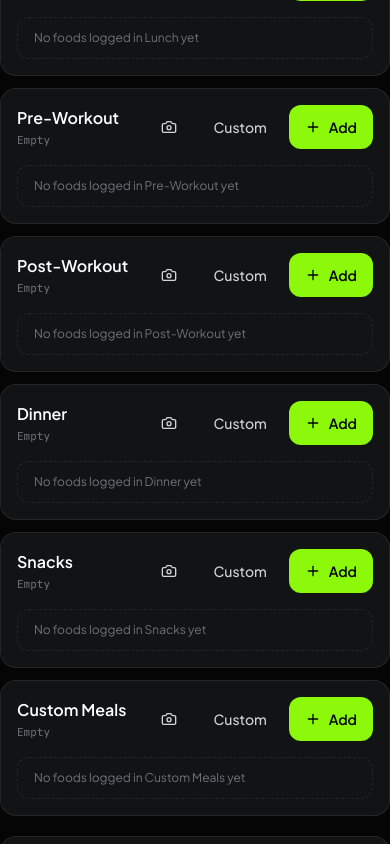
Test: Add-food and custom-food dialogs › custom food: Save is disabled until a name is entered, and every field is labelled
(page scrolled)
Click the button with aria-label "Add custom food to Dinner" at (240, 423), box [197, 401, 283, 445]
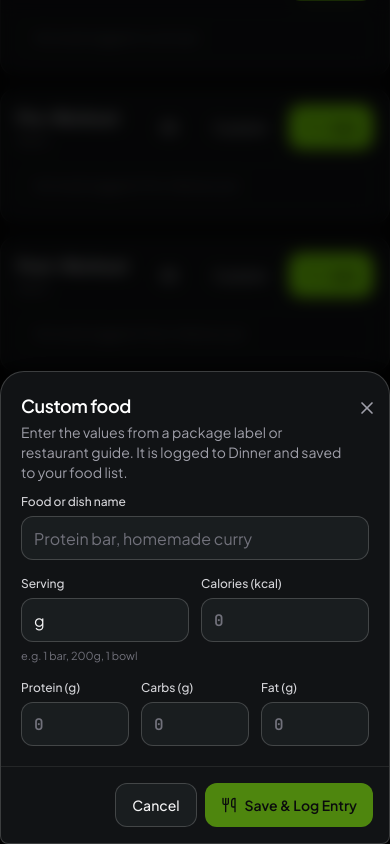
expect the button "Save & Log Entry" is disabled: met, box [205, 783, 373, 827]
